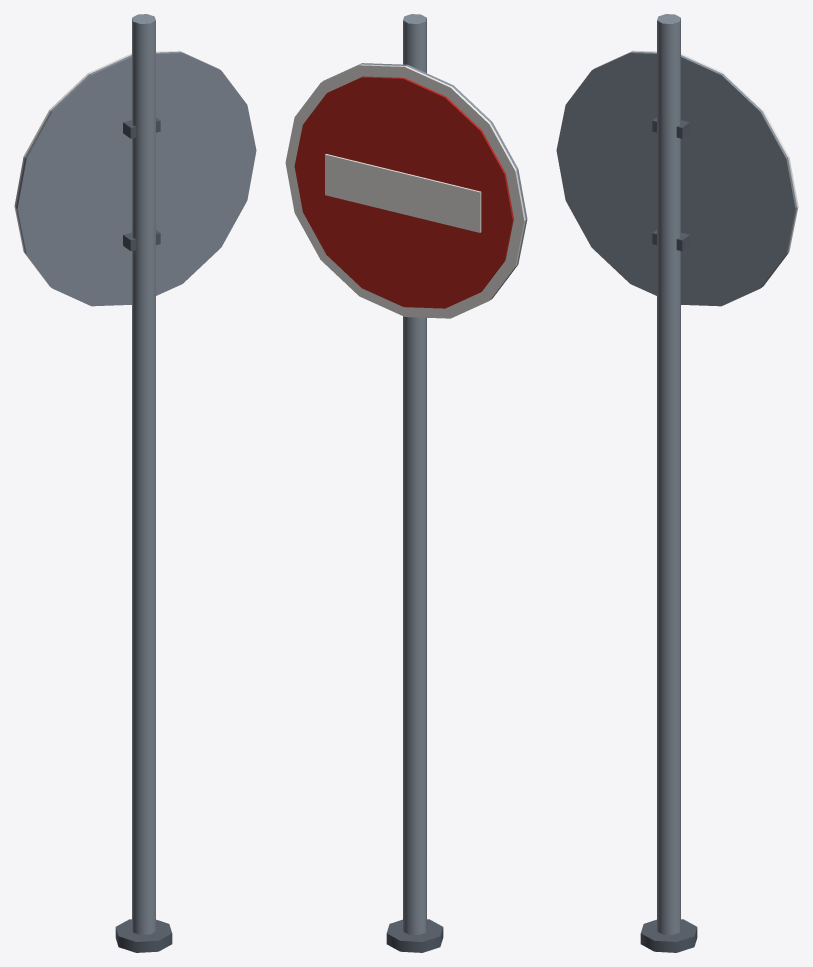
The model's file is sign_noentry.glb.
3 renders of one model, left to right at view 1: azimuth 30°, elevation 25°; view 2: azimuth 150°, elevation 25°; view 3: azimuth 330°, elevation 25°, orthographic.
Parts seen in each view (by area): view 1: sign_noentry; view 2: sign_noentry; view 3: sign_noentry.
Boxes of the visible parts, bbox=[...] form: sign_noentry: bbox=[14, 14, 256, 952]; sign_noentry: bbox=[285, 14, 527, 952]; sign_noentry: bbox=[556, 14, 798, 952].
Bounding box in the file's own units: 0.8 × 2.95 × 0.17.
